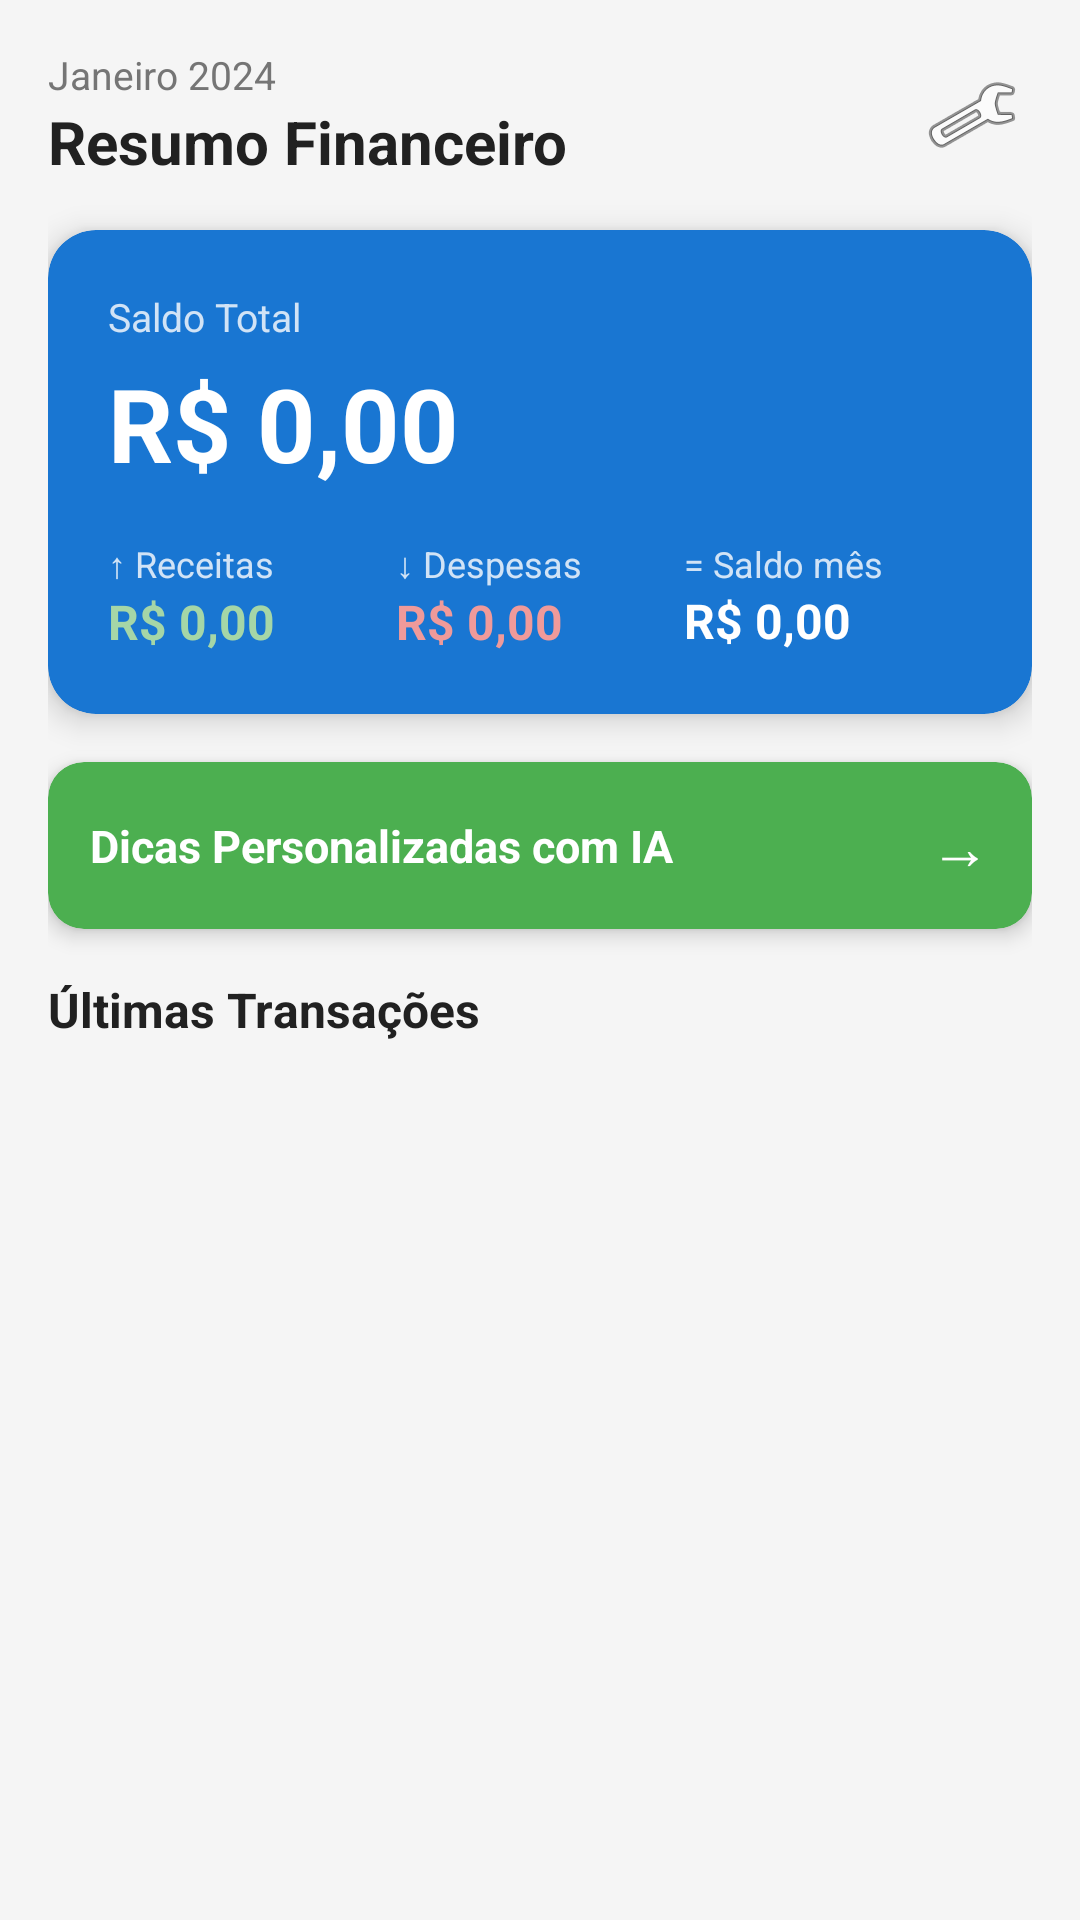

Where icons sit on this 1080 × 1920 app screen, as [x1=x1, y1=y1, x2=x2, y2=y2]:
Configurações: [x1=929, y1=82, x2=1015, y2=148]
